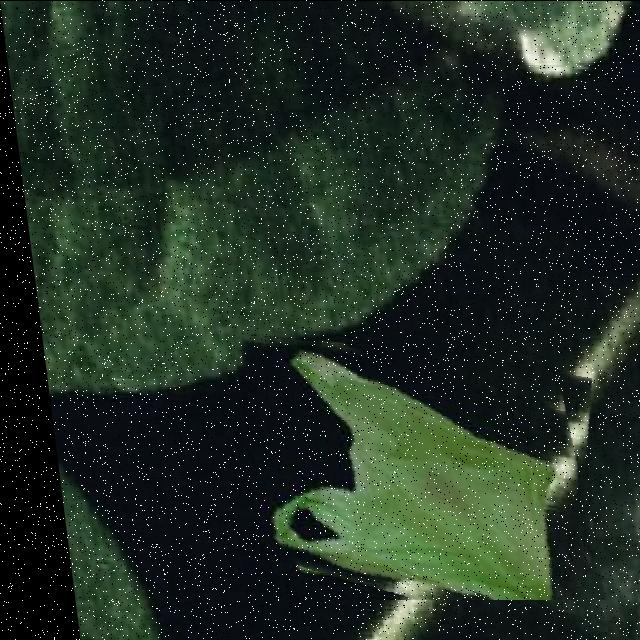plasticcover: (224, 330, 593, 599)
